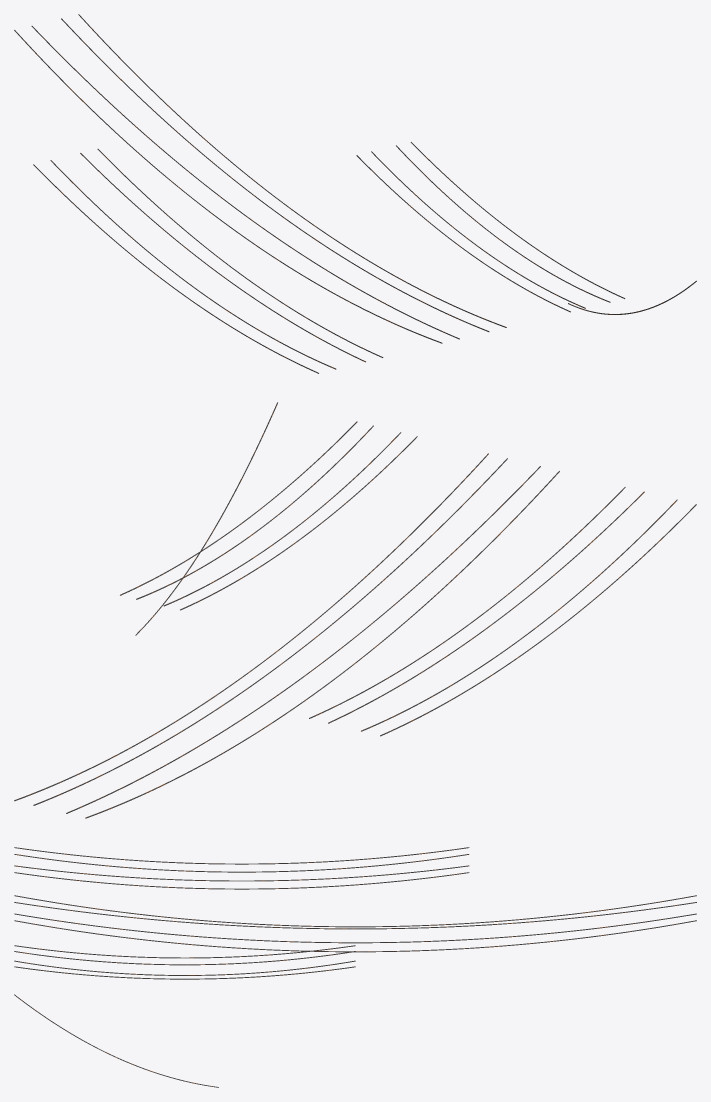
Rendered from PowerLines.fbx.
The picture shows the model from 3 angles, top to bottom: view 1: azimuth 30°, elevation 25°; view 2: azimuth 150°, elevation 25°; view 3: azimuth 270°, elevation 25°; orthographic projection. The views are drawn at different scales.
Parts seen in each view (by area): view 1: PowerLine_60, PowerLine_40, PowerLine_Wood_30; view 2: PowerLine_60, PowerLine_40, PowerLine_Wood_30; view 3: PowerLine_60, PowerLine_40, PowerLine_Wood_30.
Part boxes in pixels (bbox=[...]): PowerLine_60: bbox=[14, 14, 506, 343]; PowerLine_40: bbox=[33, 149, 383, 373]; PowerLine_Wood_30: bbox=[356, 142, 625, 312]; PowerLine_60: bbox=[14, 453, 559, 818]; PowerLine_40: bbox=[309, 487, 696, 736]; PowerLine_Wood_30: bbox=[120, 421, 417, 610]; PowerLine_60: bbox=[14, 895, 696, 952]; PowerLine_40: bbox=[14, 847, 469, 889]; PowerLine_Wood_30: bbox=[14, 945, 355, 979].
Size of the model in its own units: 859 by 254 by 1681.
Materials: 1 (1 with a texture image).
